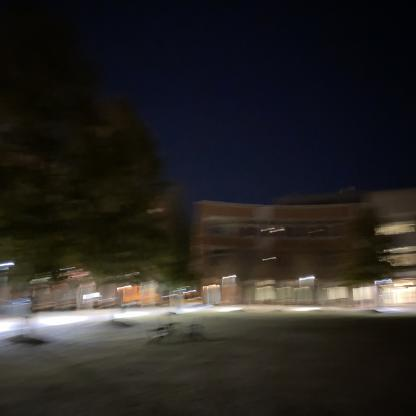eb2: (191, 180, 416, 310)
